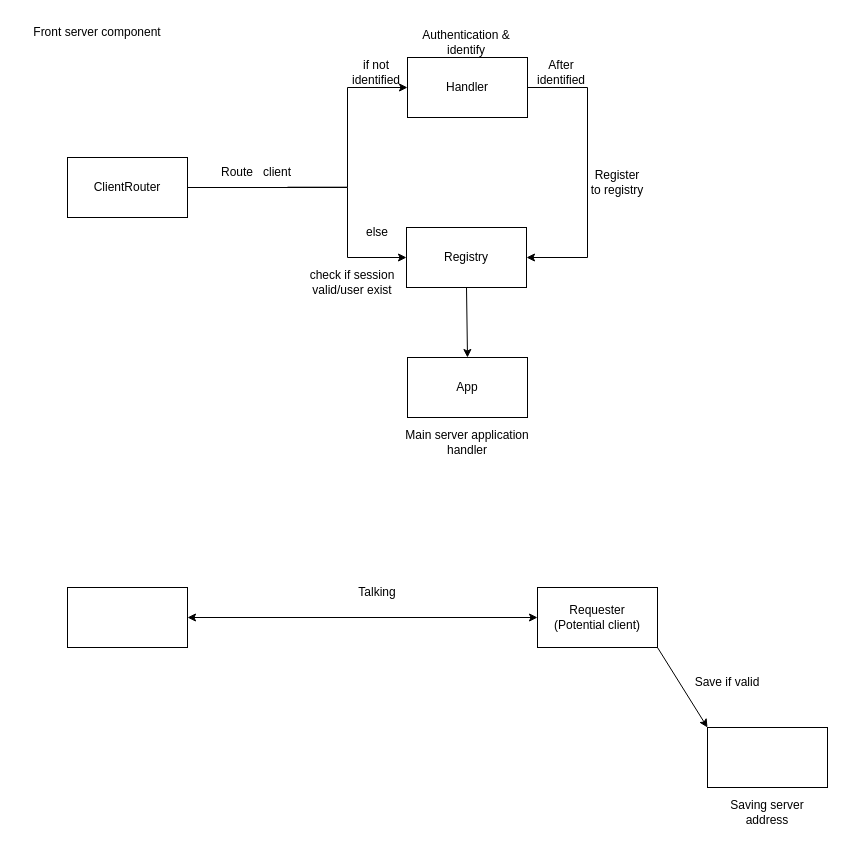
The diagram is 845 pixels wide and 844 high, and some of its shapes have lost their labels. The shapes that lost their labels are listed below. From the top down, each one's centre as x and y in pixels, then its label:
At pixel 127 617: "Broadcaster".
At pixel 767 757: "ServerRegistry".
